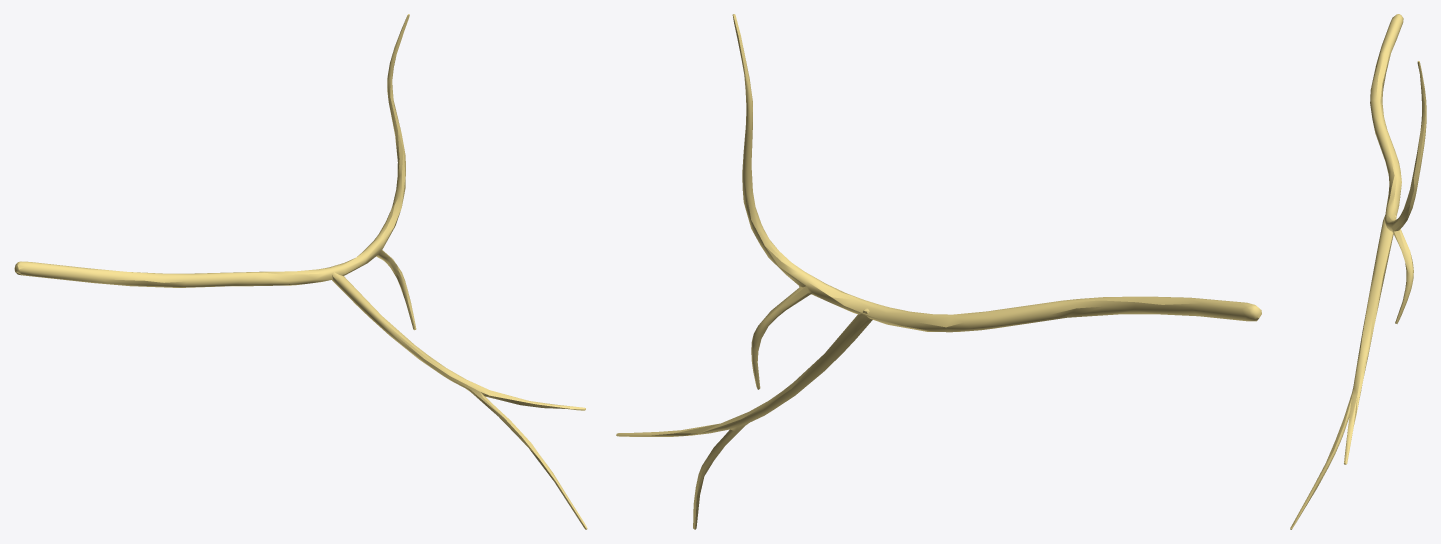
File: fma37074_cx57.glb
The picture shows the model from 3 angles, left to right: view 1: azimuth 30°, elevation 25°; view 2: azimuth 150°, elevation 25°; view 3: azimuth 270°, elevation 25°; orthographic projection. The views are drawn at different scales.
Visible parts, largest first — view 1: FMA37074_CX57; view 2: FMA37074_CX57; view 3: FMA37074_CX57.
Boxes of the visible parts, <box> form: FMA37074_CX57: <box>14,14,587,529</box>; FMA37074_CX57: <box>616,14,1261,529</box>; FMA37074_CX57: <box>1290,14,1426,529</box>.
Bounding box in the file's own units: 0.1009 × 0.087 × 0.0254.
